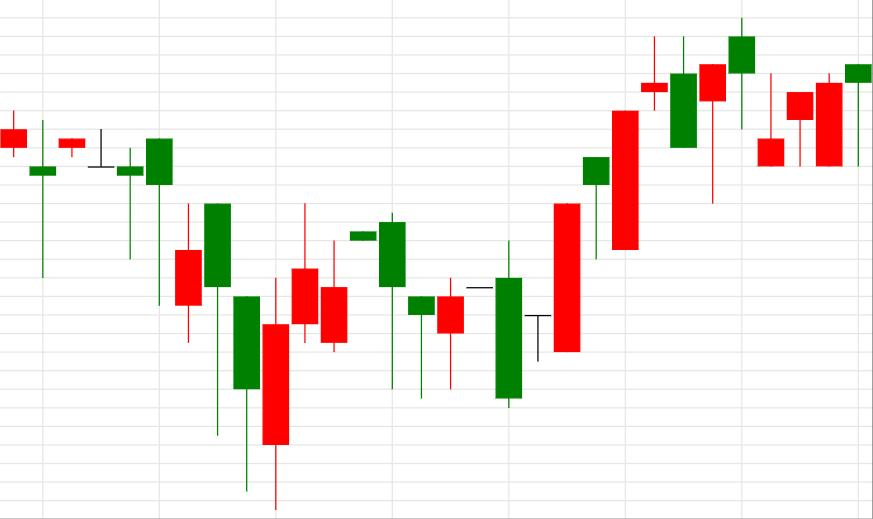hanging_man_fall: (524, 37, 725, 362)
